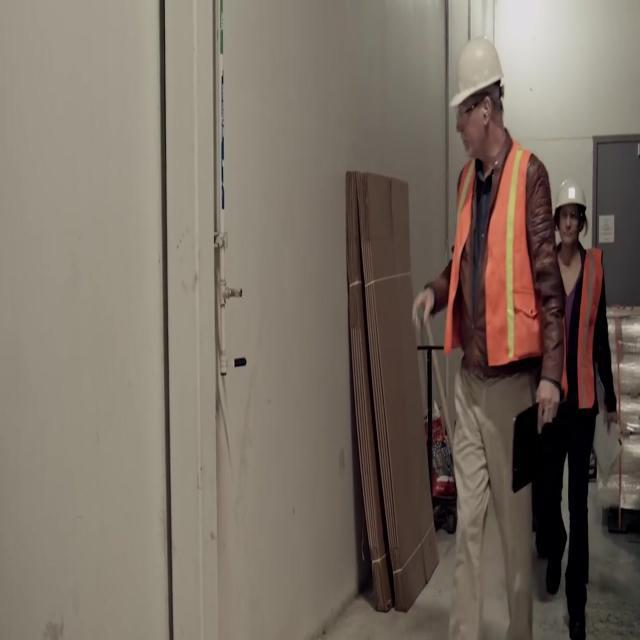reflective_jacket: (435, 139, 558, 389), (550, 239, 618, 436)
safety_helmet: (443, 25, 513, 121), (549, 165, 593, 224)
